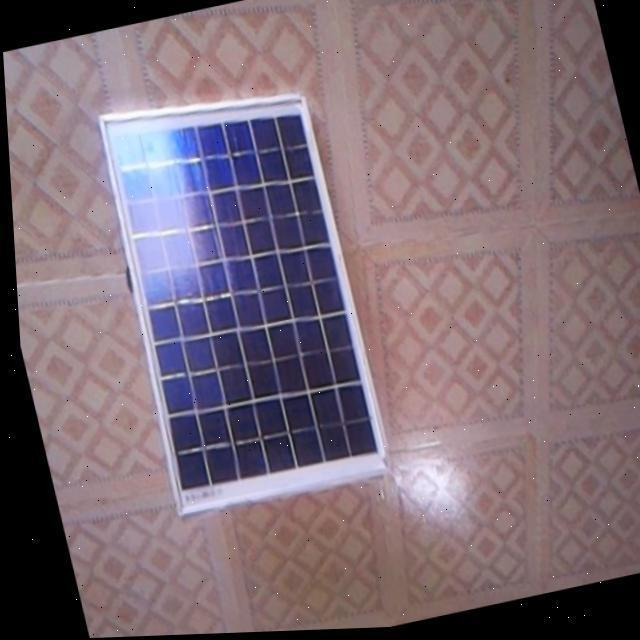Normal Solar Panel: (80, 74, 388, 522)
